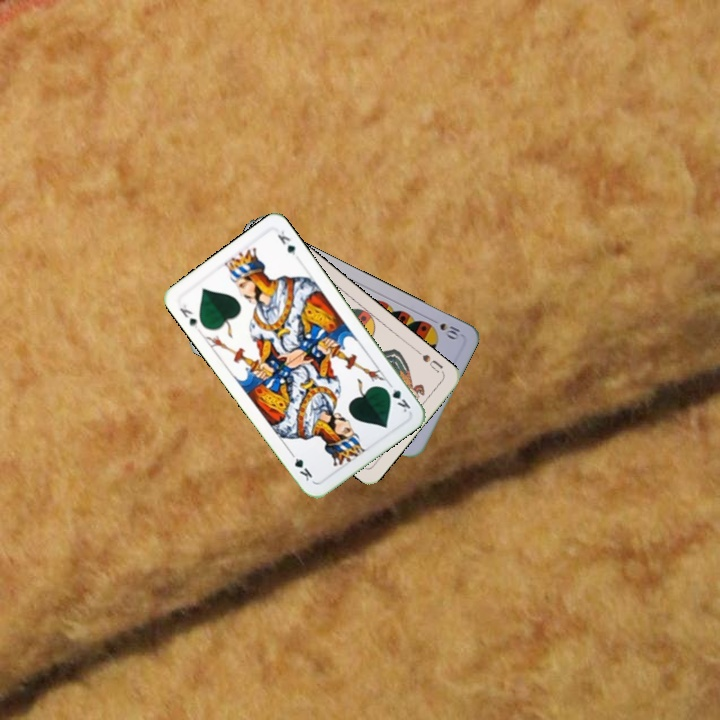GK: (380, 383, 413, 415), (175, 300, 200, 331)
S10: (435, 319, 464, 342)
SU: (412, 346, 446, 376)
